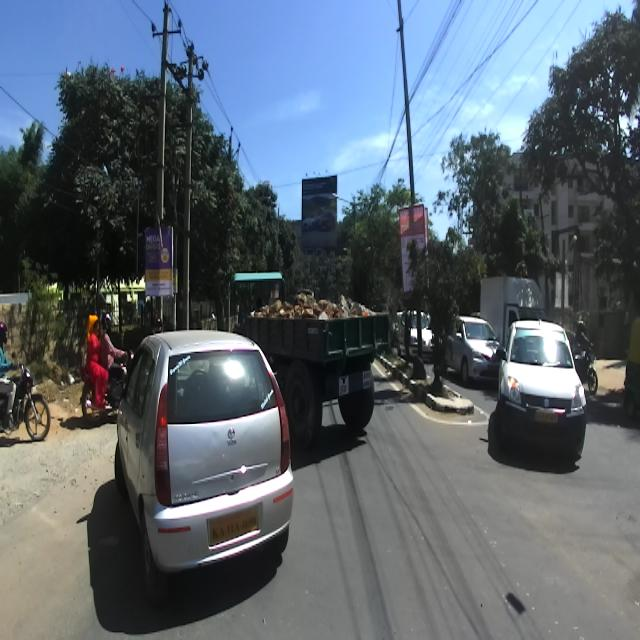car ahead at: (112, 319, 300, 578), (489, 301, 587, 499)
electric pole ahead at: (150, 0, 205, 323)
motorcycle ahead at: (12, 354, 54, 442)
truck ahead at: (291, 282, 394, 456)
